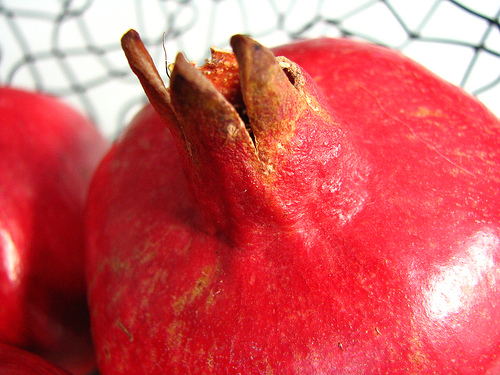pomogranate: (85, 29, 499, 374), (0, 84, 115, 374)
